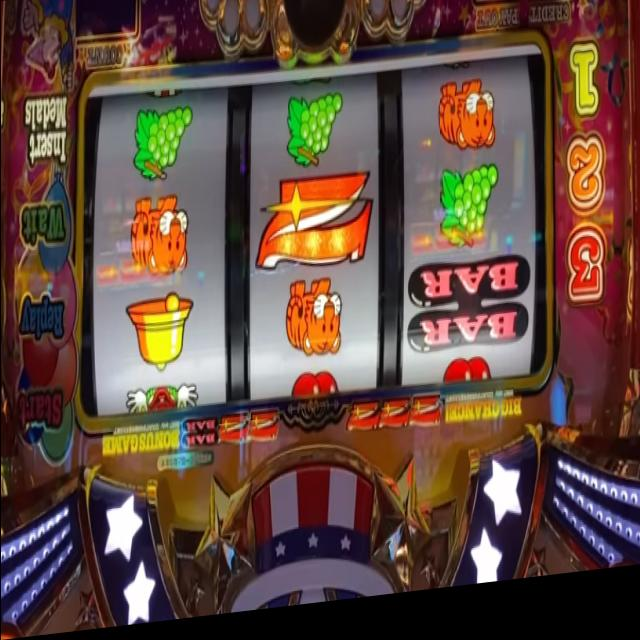bar: (408, 264, 532, 368), (180, 419, 217, 459)
bell: (124, 288, 194, 382)
cherry: (290, 373, 340, 408), (440, 365, 491, 397)
clown: (123, 382, 200, 421)
display: (82, 52, 548, 430)
grape: (438, 168, 500, 267), (130, 103, 194, 189), (286, 95, 344, 178)
tiger: (128, 193, 190, 283), (436, 85, 497, 169), (284, 281, 342, 369)
z: (253, 172, 373, 284), (408, 402, 443, 438), (247, 416, 280, 454), (218, 416, 245, 456), (344, 409, 376, 442), (377, 407, 407, 441)
